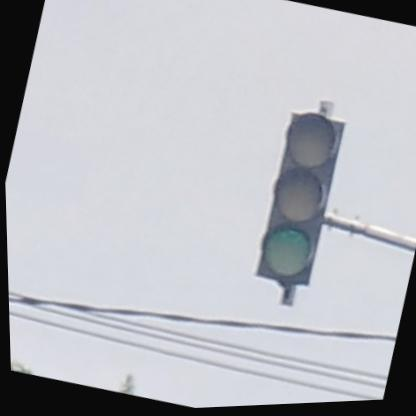green: (246, 110, 350, 294)
